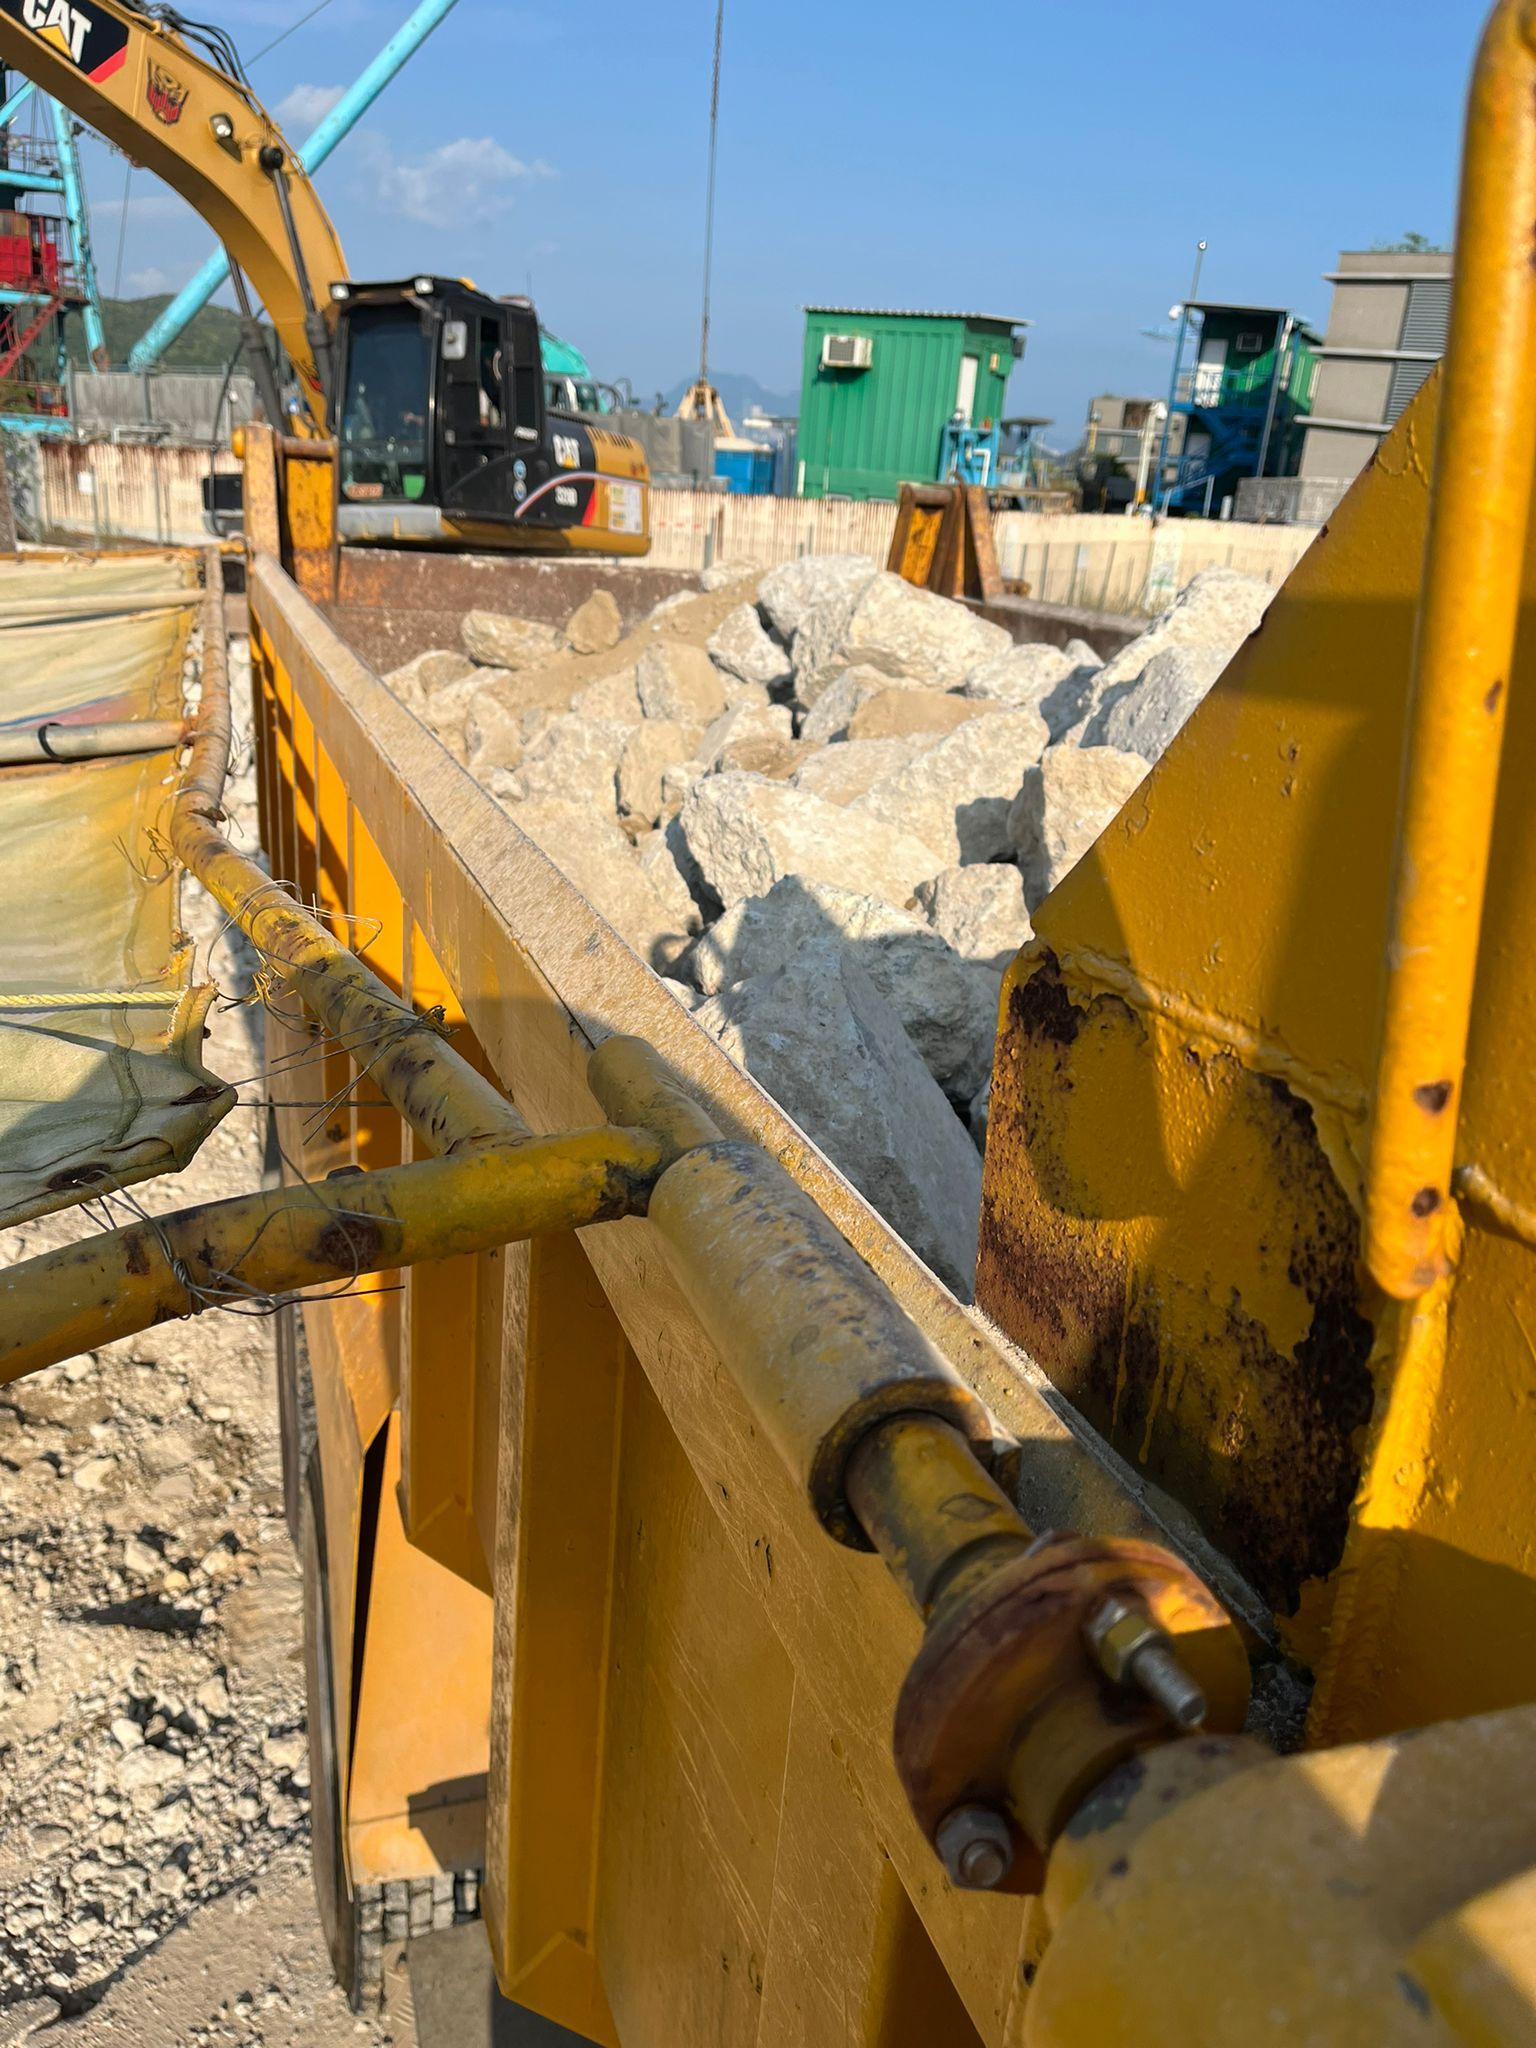dry: (407, 580, 1253, 1230)
